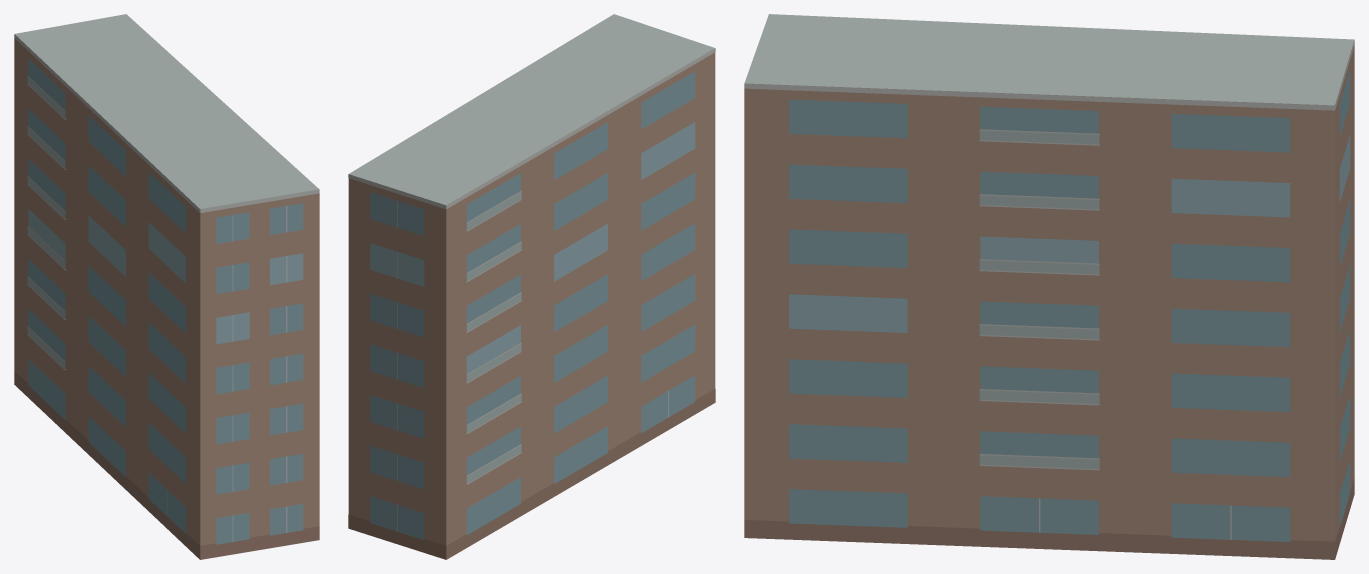
File: survey-upis-32980916.glb
The picture shows the model from 3 angles, left to right: view 1: azimuth 30°, elevation 25°; view 2: azimuth 150°, elevation 25°; view 3: azimuth 270°, elevation 25°; orthographic projection. The views are drawn at different scales.
Visible parts, largest first — view 1: survey-upis-32980916.tmp; view 2: survey-upis-32980916.tmp; view 3: survey-upis-32980916.tmp.
Boxes of the visible parts, x1,y1,x2,y2 form: survey-upis-32980916.tmp: [14, 14, 319, 559]; survey-upis-32980916.tmp: [348, 14, 715, 559]; survey-upis-32980916.tmp: [744, 14, 1354, 559].
Size of the model in its own units: 9.22 by 21.35 by 25.99.
